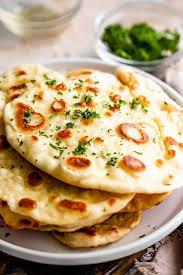Naan: (3, 59, 179, 248)
